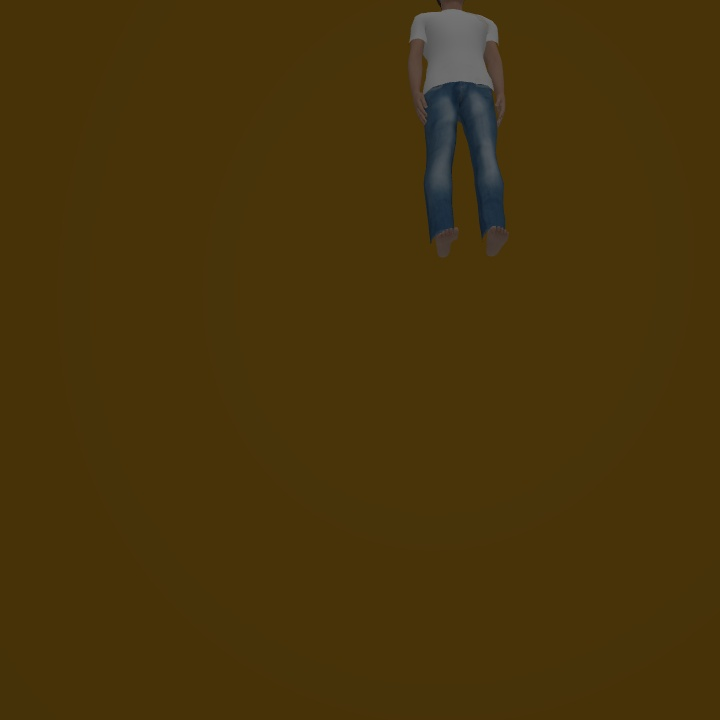victim: (409, 1, 509, 259)
